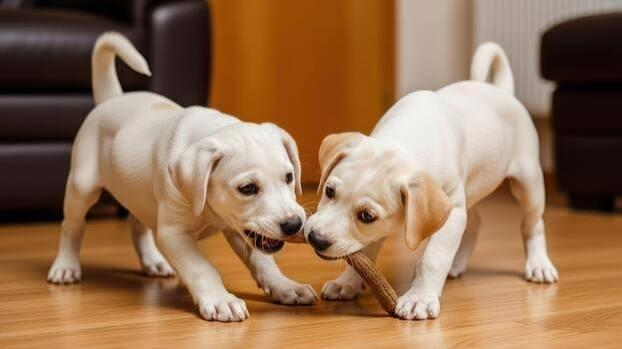puppy-dog: (43, 26, 316, 322), (304, 41, 561, 321)
